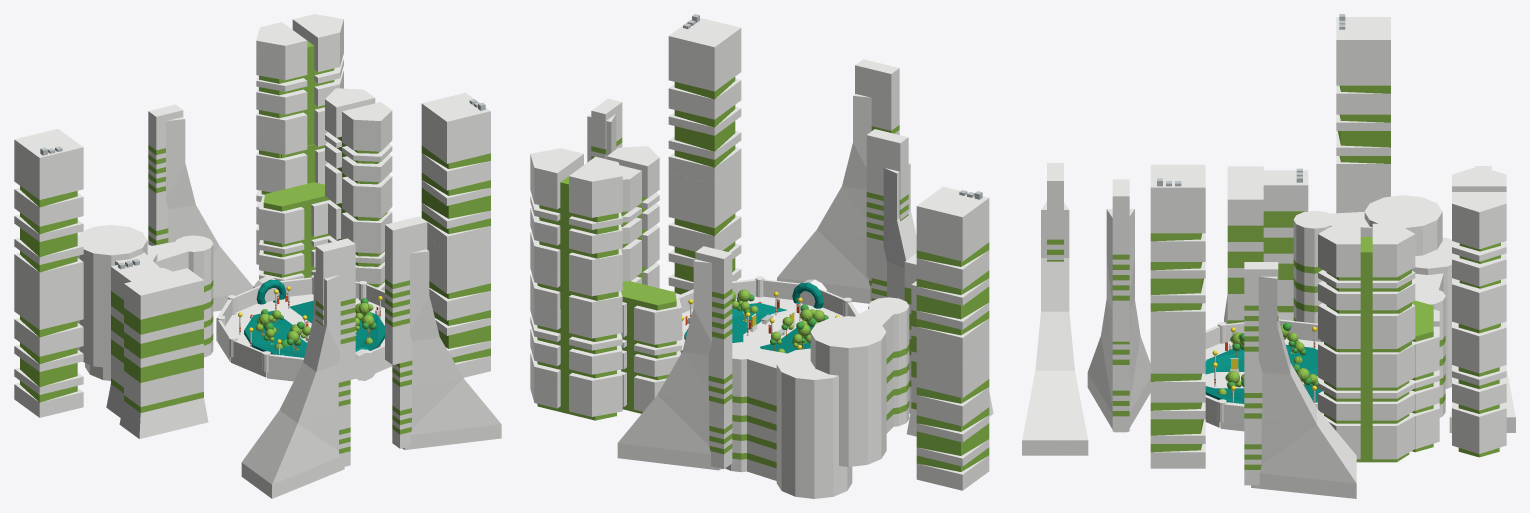
Rendered from Urban Park v1-transformed.glb.
3 views of the same model, side by side, from view 1: azimuth 30°, elevation 25°; view 2: azimuth 150°, elevation 25°; view 3: azimuth 270°, elevation 25° (orthographic). The views are drawn at different scales.
Visible parts, largest first — view 1: group1872301862; view 2: group1872301862; view 3: group1872301862.
Boxes of the visible parts, box(x1,y1,x2,y2) form: group1872301862: box(14, 14, 501, 498); group1872301862: box(530, 14, 993, 498); group1872301862: box(1022, 14, 1515, 498).
Size of the model in its own units: 1.74 by 1.22 by 1.62.
1 material, 1 textured.
